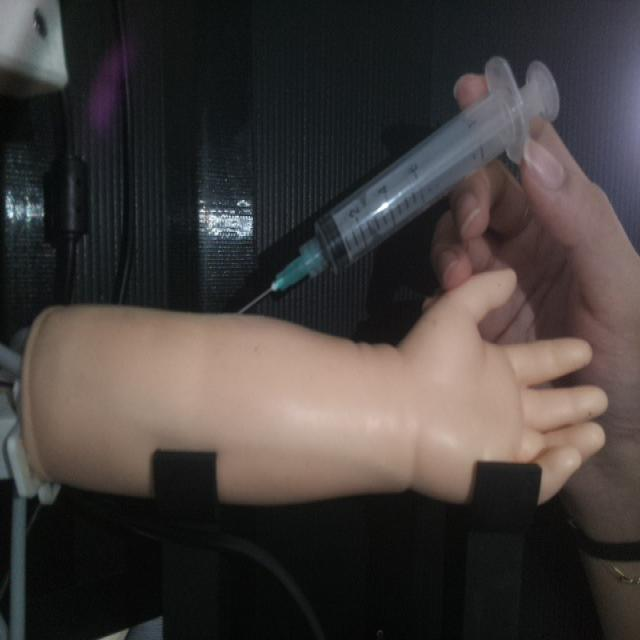Outside: (233, 52, 562, 315)
